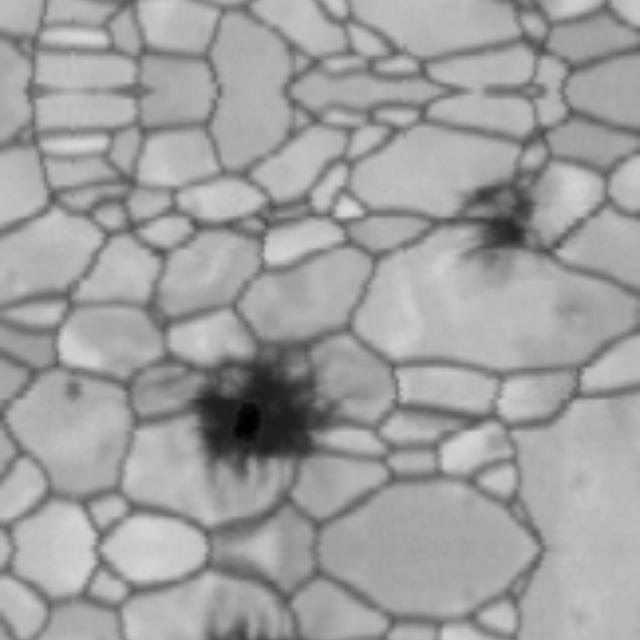good_void: (160, 307, 363, 494), (444, 167, 549, 285), (53, 376, 91, 403)
